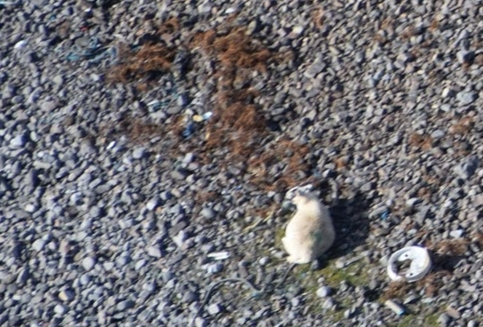net: (67, 34, 119, 70)
scattered_barrel: (358, 238, 438, 319), (176, 100, 220, 142)
tube: (191, 282, 216, 323), (210, 271, 251, 288), (276, 263, 296, 288)
white_in_green: (251, 164, 368, 286), (367, 224, 449, 299)
